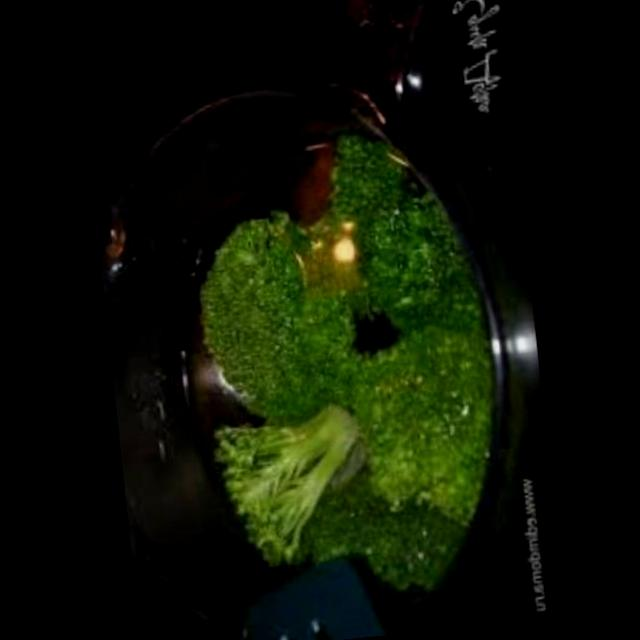Broccoli: (172, 121, 506, 600)
